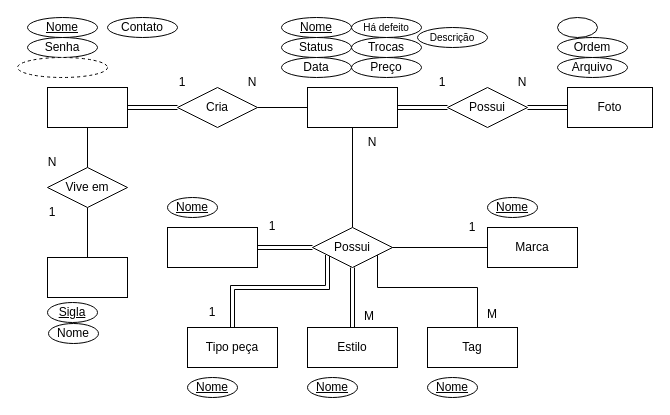
The diagram is 670 pixels wide and 415 high, and some of its shapes have lost their labels. Each missing label, with the centre of its shape:
Anúncio: point 352,107
Estado: point 87,277
ID: point 577,27
Reputação: point 62,67
Tamanho: point 212,247
Usuário: point 87,107
